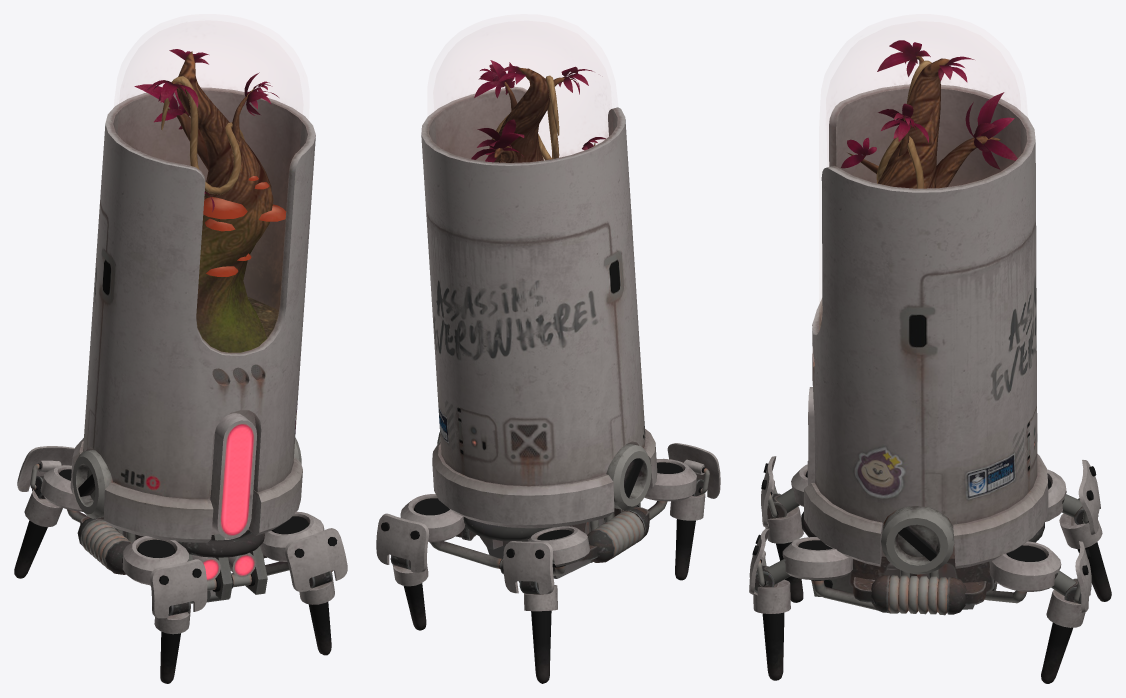
The model's file is terrarium-bot-a-optimized.glb.
3 views of the same model, side by side, from view 1: azimuth 30°, elevation 25°; view 2: azimuth 150°, elevation 25°; view 3: azimuth 270°, elevation 25° (orthographic). The views are drawn at different scales.
Parts seen in each view (by area): view 1: Bot1; view 2: Bot1; view 3: Bot1.
Part boxes in pixels (x1,y1,x2,y2): Bot1: [14, 31, 347, 683]; Bot1: [376, 60, 720, 683]; Bot1: [749, 40, 1111, 683].
Size of the model in its own units: 1.88 by 4.78 by 2.5.
2 materials, 2 textured.
